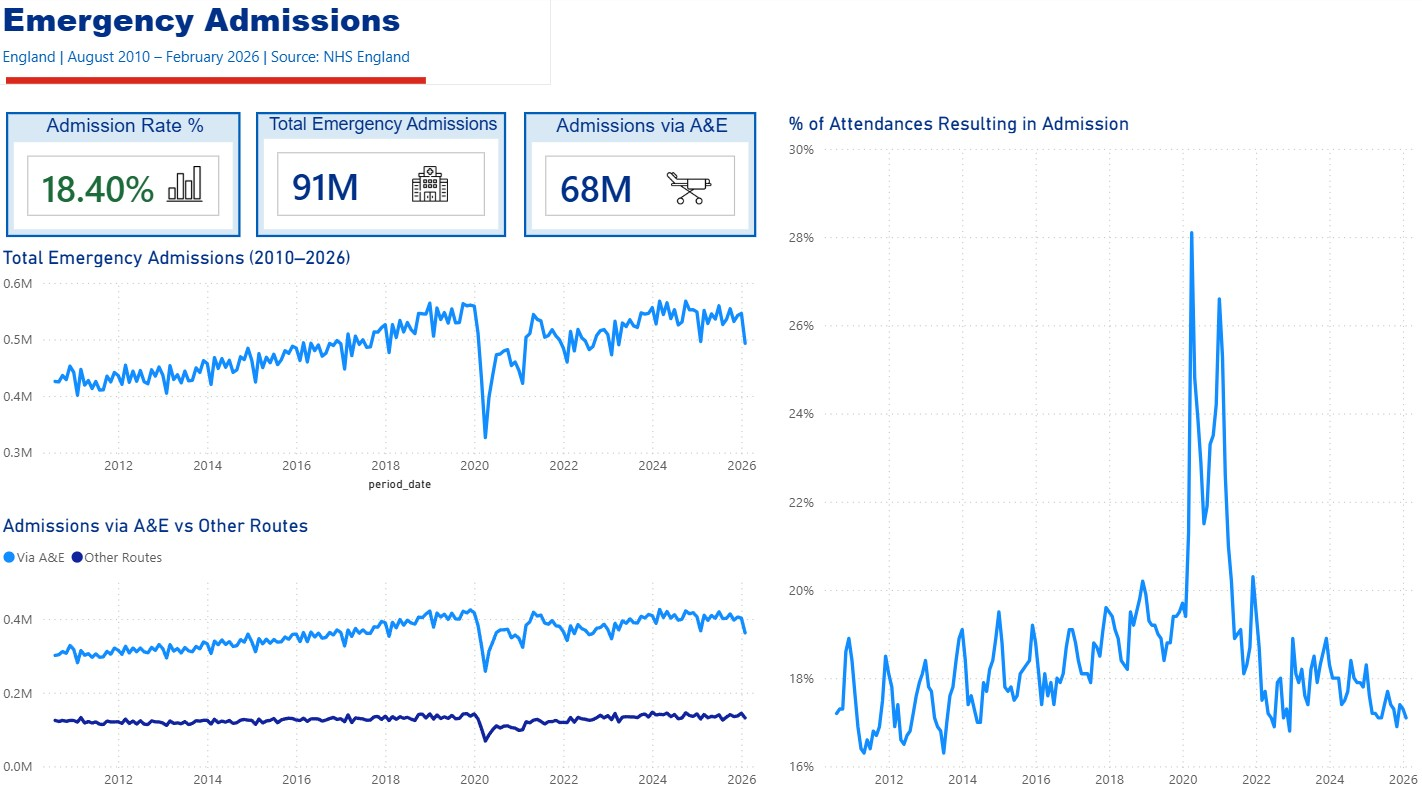

What the dashboard file says about the page in this screenshot:
{"tool":"powerbi","page":{"name":"Emergency Admissions","canvas":[1280,720],"ordinal":3},"visuals":[{"type":"lineChart","title":"Total Emergency Admissions (2010–2026)","fields":{"Category":["ae_monthly.period_date"],"Y":["Sum(ae_monthly.total_emergency_admissions)"]},"box":[0,224,688,224],"z":0},{"type":"lineChart","title":"Admissions via A&E vs Other Routes","fields":{"Category":["ae_monthly.period_date"],"Y":["Sum(ae_monthly.total_emergency_admissions_via_ae)","Sum(ae_monthly.other_emergency_admissions)"]},"box":[0,464,688,256],"z":1000},{"type":"lineChart","title":"% of Attendances Resulting in Admission","fields":{"Category":["ae_monthly.period_date"],"Y":["ae_monthly.Admissions to Attendances Ratio"]},"box":[704,104,576,616],"z":2000},{"type":"cardVisual","title":"Total Emergency Admissions","fields":{"Data":["Sum(ae_monthly.total_emergency_admissions)"]},"box":[232,104,224,112],"z":3000},{"type":"cardVisual","title":"Admissions via A&E","fields":{"Data":["Sum(ae_monthly.total_emergency_admissions_via_ae)"]},"box":[472,104,208,112],"z":4000},{"type":"cardVisual","title":"Admission Rate %","fields":{"Data":["ae_monthly.Admissions to Attendances Ratio"]},"box":[8,104,210,112],"z":5000},{"type":"textbox","title":"Emergency Admissions","box":[0,0,496,80],"z":6000},{"type":"shape","box":[8,72,376,8],"z":8000},{"type":"image","box":[576,152,88,40],"z":8001},{"type":"image","box":[336,152,104,32],"z":8002},{"type":"image","box":[112,152,112,32],"z":8003}]}

Visuals, with their boxes in screenshot pixels (x1, y1, x2, y2), scaled from the page's 1280x720 canvas onto the 1422x793 screenshot:
"Total Emergency Admissions (2010–2026)" lineChart: <box>0,247,764,493</box>
"Admissions via A&E vs Other Routes" lineChart: <box>0,511,764,792</box>
"% of Attendances Resulting in Admission" lineChart: <box>782,115,1421,792</box>
"Total Emergency Admissions" cardVisual: <box>258,115,507,238</box>
"Admissions via A&E" cardVisual: <box>524,115,755,238</box>
"Admission Rate %" cardVisual: <box>9,115,242,238</box>
"Emergency Admissions" textbox: <box>0,0,551,88</box>
shape: <box>9,79,427,88</box>
image: <box>640,167,738,211</box>
image: <box>373,167,489,203</box>
image: <box>124,167,249,203</box>
